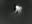person: (16, 6, 24, 16)
